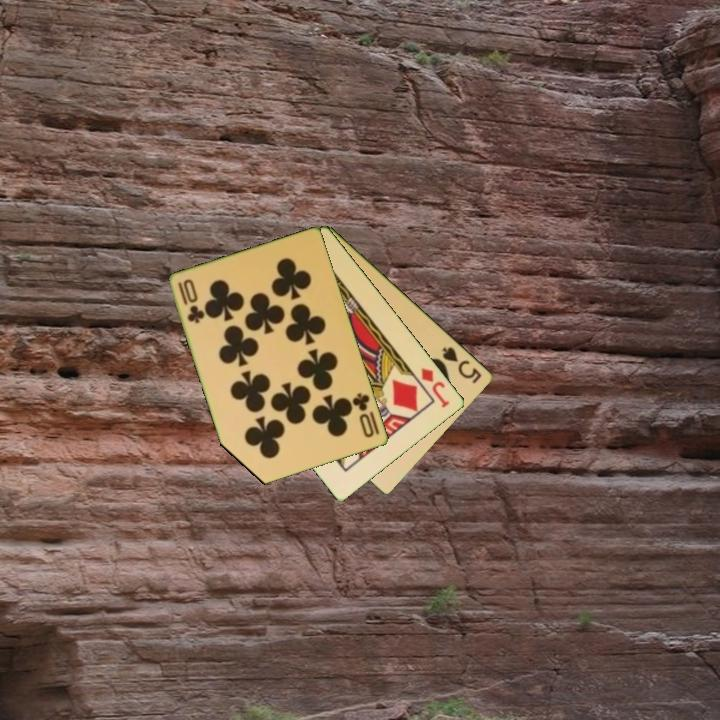10c: (175, 275, 207, 327), (349, 389, 377, 441)
5s: (439, 343, 485, 387)
Jd: (418, 364, 453, 411)
